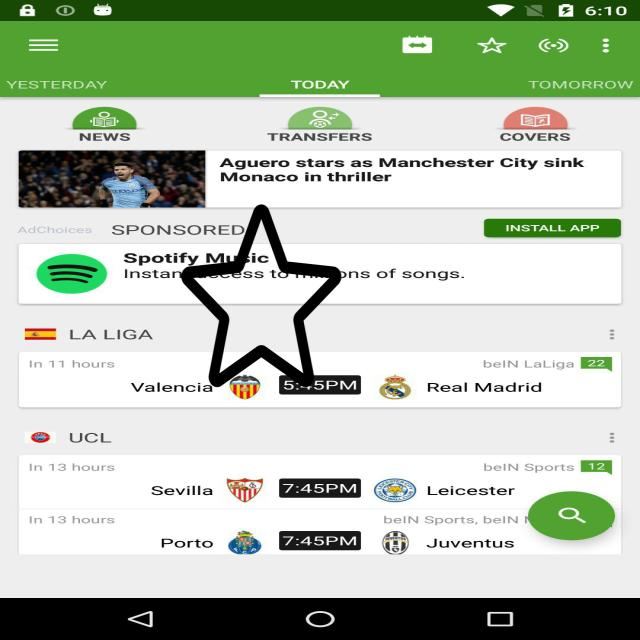forced continuity: (182, 200, 342, 391)
